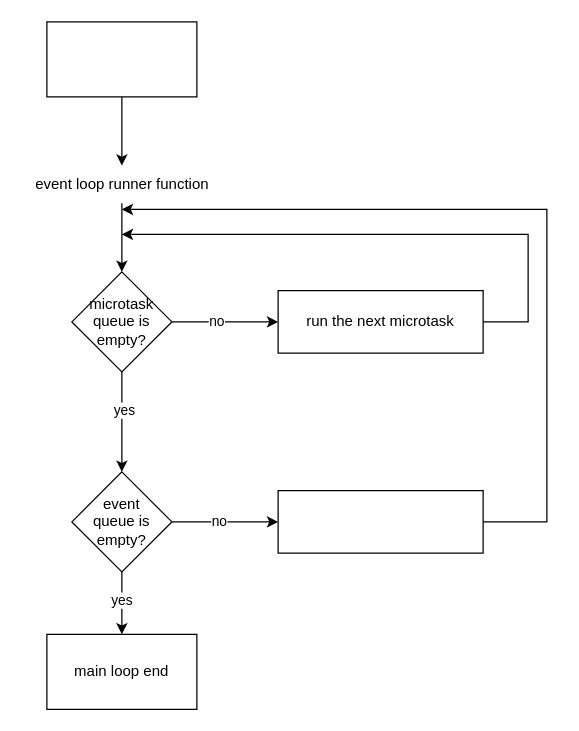
Image size: 579x731. Some labels were removed from this diagram. Each missing label, with the box of its shape:
handle the next event: (277, 489, 483, 553)
main loop: (46, 21, 197, 97)
